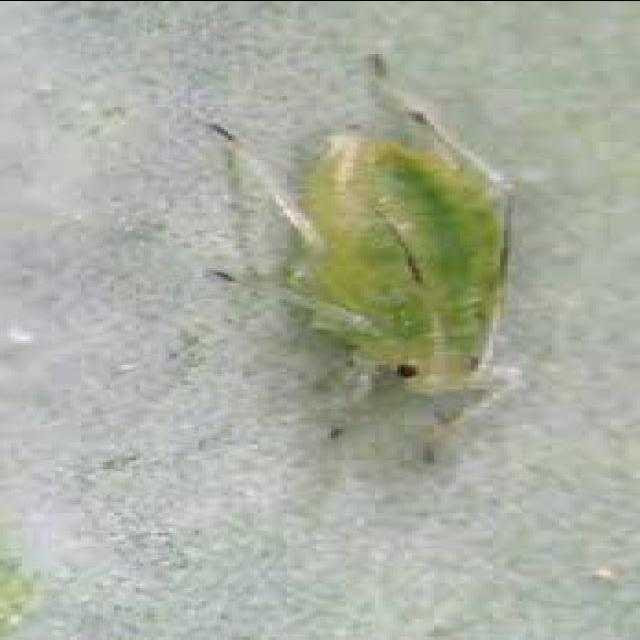aphid: (174, 50, 584, 482)
